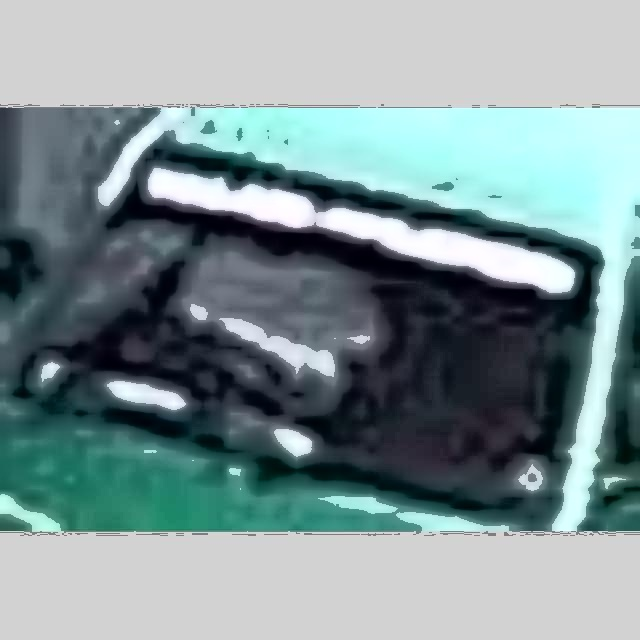tidak-pakai: (132, 230, 367, 409)
